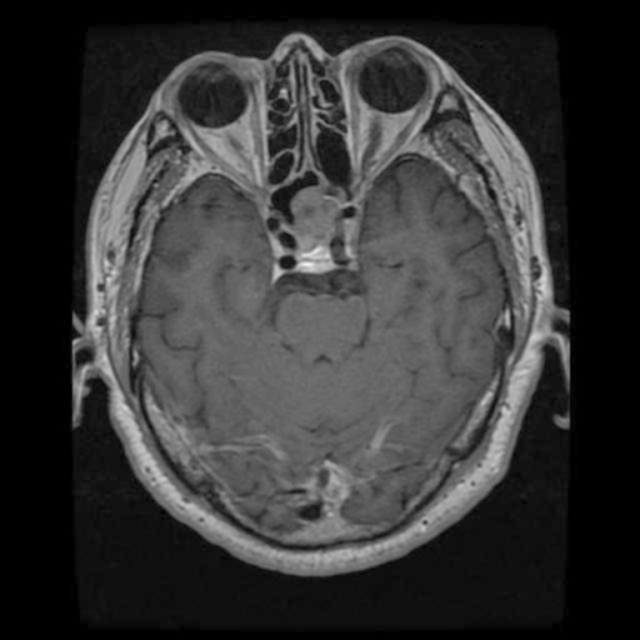no tumor: (290, 181, 354, 274)
